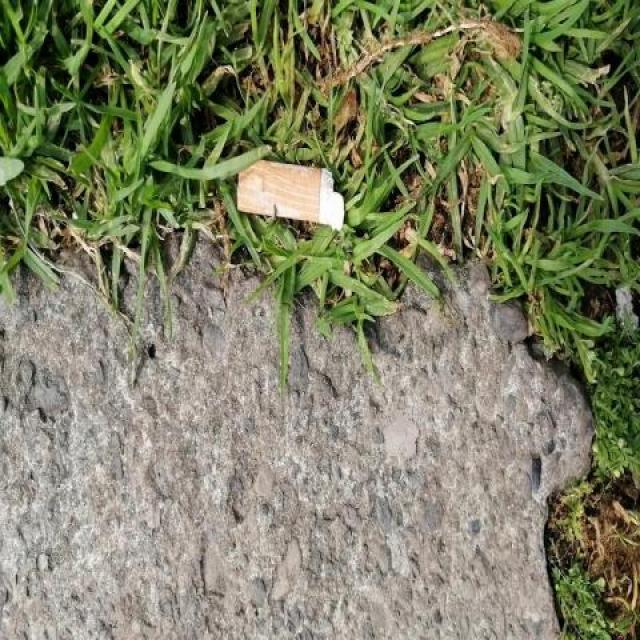non-organic waste: (231, 148, 349, 233)
